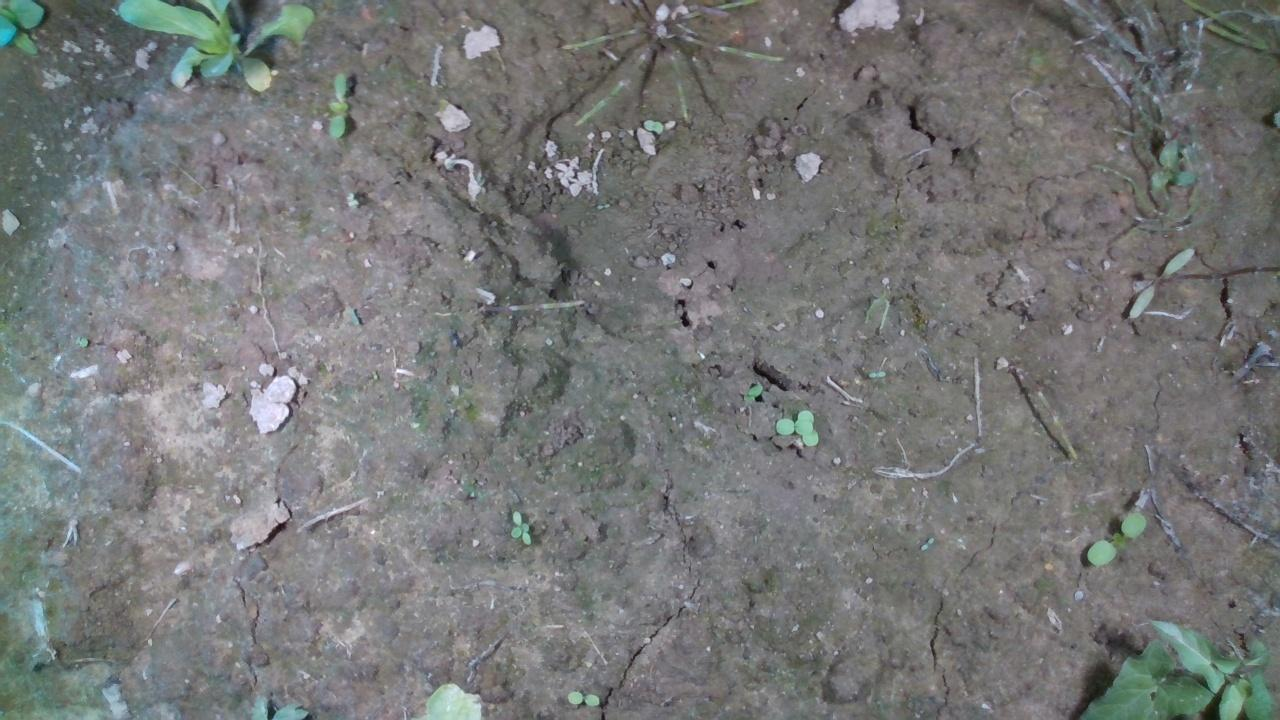weed: (1084, 509, 1147, 566), (504, 505, 550, 546), (325, 68, 348, 138), (563, 688, 603, 708)
